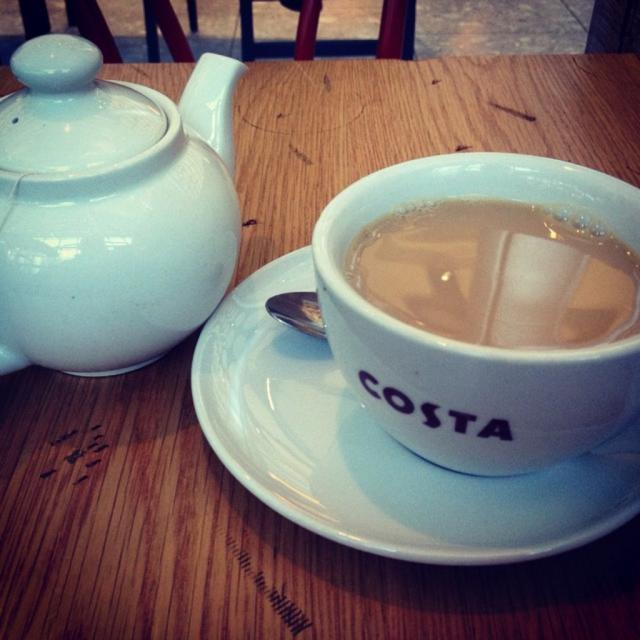Tea: (350, 193, 639, 347)
